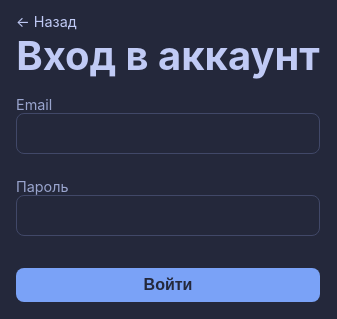
Test: LoginForm Component › shows error message with invalid credentials
Type "wrong@example.com" into the field labelled "Email" at (168, 133), box [16,112,320,154]
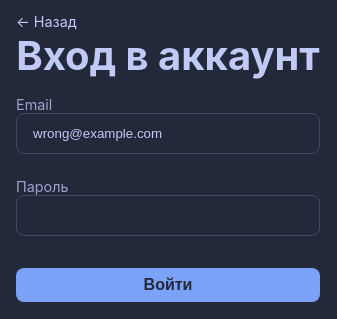
Type "wrongpassword" into the password field labelled "Пароль" at (168, 215), box [16,194,320,236]
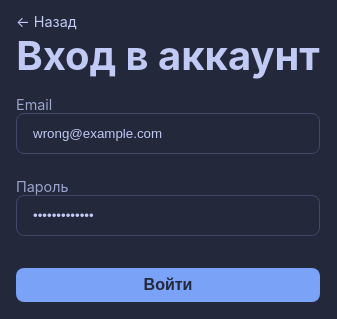
Click the button "Войти" at (168, 284), box [16,268,320,302]
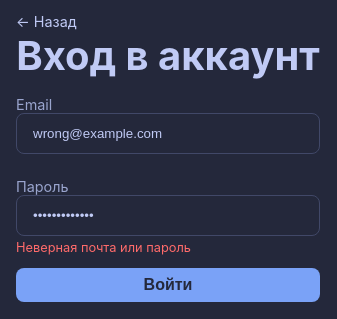
Check: the text "Неверная почта или пароль" is shown, box [16,240,191,255]
